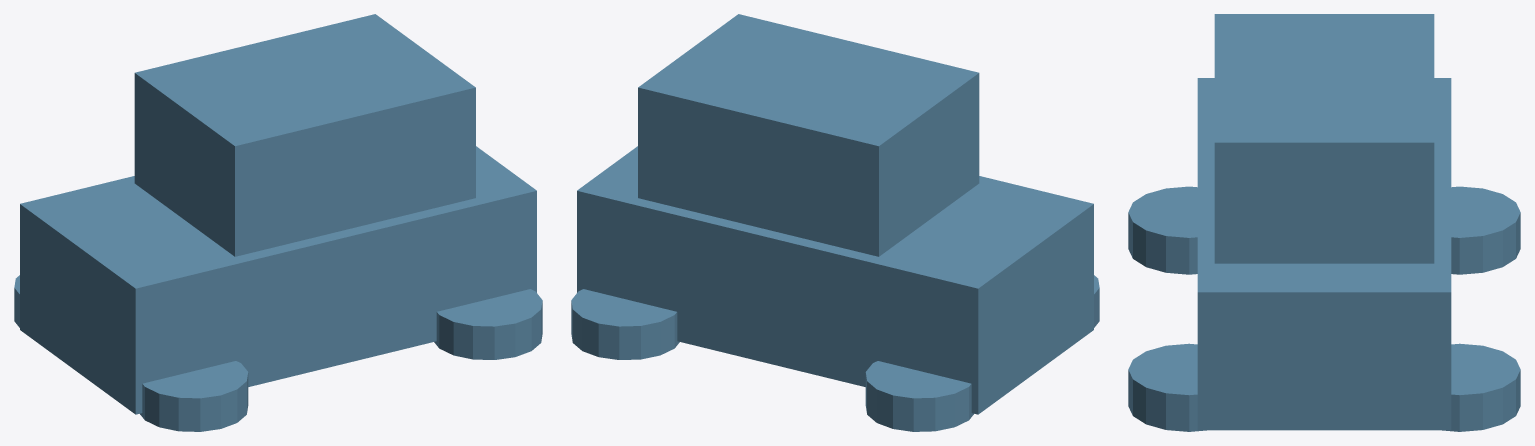
File: tech_134.glb
3 views of the same model, side by side, from view 1: azimuth 30°, elevation 25°; view 2: azimuth 150°, elevation 25°; view 3: azimuth 270°, elevation 25° (orthographic). The views are drawn at different scales.
Visible parts, largest first — view 1: world; view 2: world; view 3: world.
Part boxes in pixels (bbox=[...]): world: bbox=[14, 14, 542, 431]; world: bbox=[571, 14, 1099, 431]; world: bbox=[1128, 14, 1520, 431].
Bounding box in the file's own units: 1.5 × 0.86 × 1.16.
